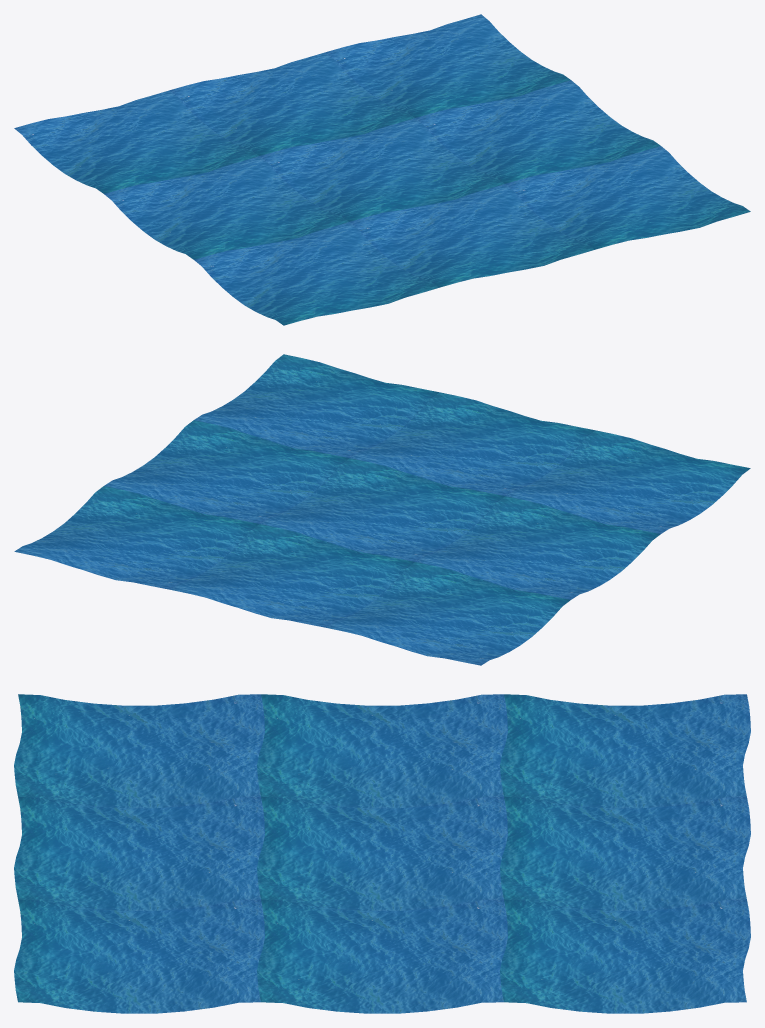
The model's file is ocean_000048.obj.
The picture shows the model from 3 angles, top to bottom: view 1: azimuth 30°, elevation 25°; view 2: azimuth 150°, elevation 25°; view 3: azimuth 270°, elevation 25°; orthographic projection. The views are drawn at different scales.
Parts seen in each view (by area): view 1: Ocean_Plan.001; view 2: Ocean_Plan.001; view 3: Ocean_Plan.001.
Boxes of the visible parts, bbox=[...] form: Ocean_Plan.001: bbox=[14, 14, 750, 325]; Ocean_Plan.001: bbox=[14, 354, 750, 665]; Ocean_Plan.001: bbox=[14, 694, 750, 1013].
Size of the model in its own units: 109098 by 1938 by 110175.
Materials: 1 (1 with a texture image).
